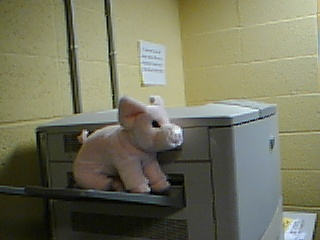piggy: (72, 95, 184, 195)
